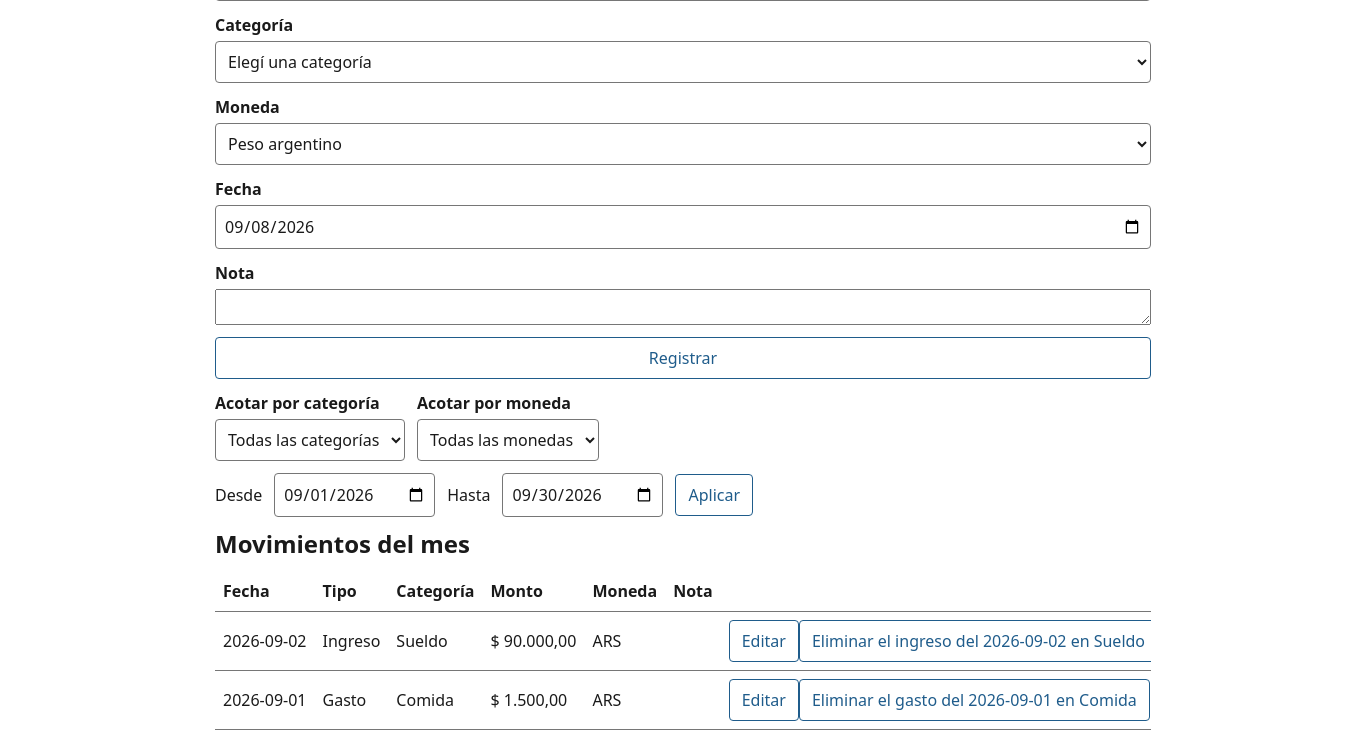
Scenario: FR-011 · la eliminación pide confirmación antes de ejecutarse › apretar Eliminar no borra nada: pide confirmación y dice la consecuencia entera (FR-011)
The width and height of the screenshot is (1366, 754).
(page scrolled)
Click the button "Eliminar el gasto del 2026-09-01 en Comida". click: click(974, 700)
box: [799,679,1150,721]
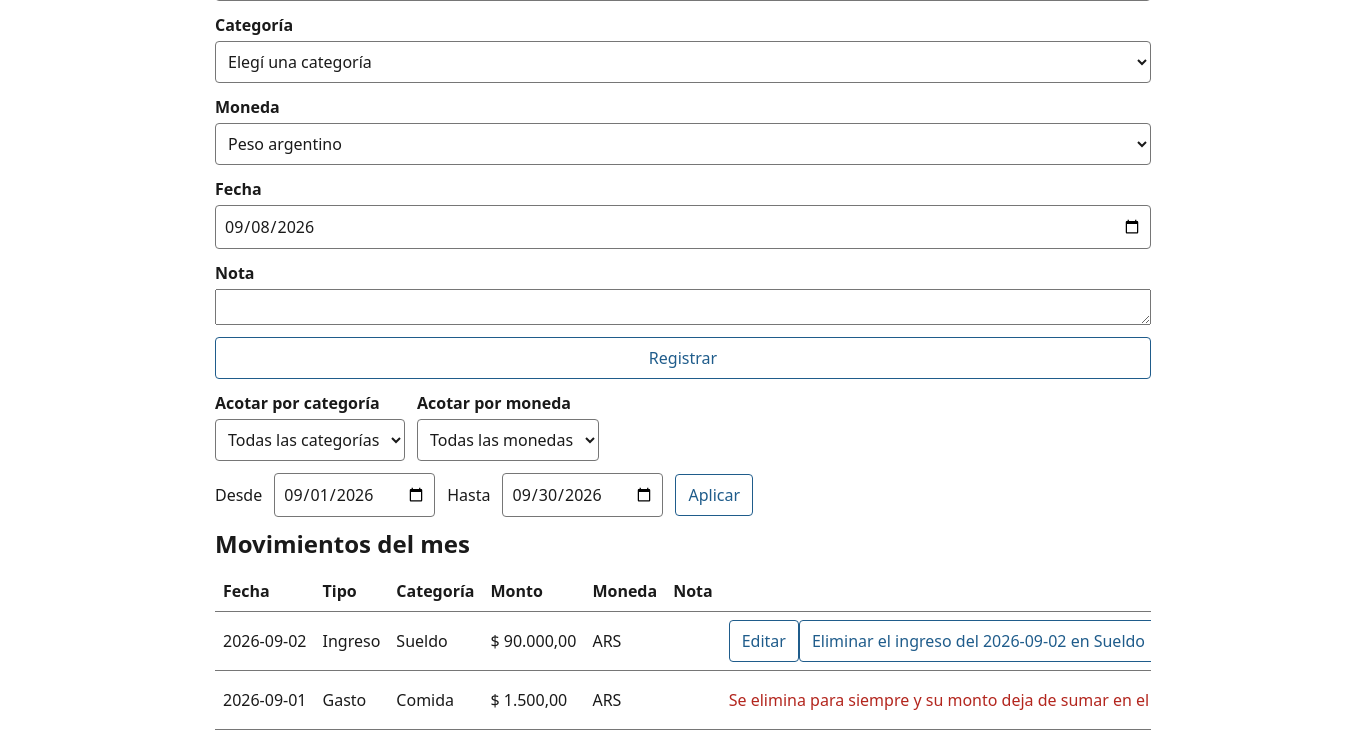
Expected: the message reads "Se elimina para siempre y su monto deja de sumar en el resumen.", [729,689,1151,711]
